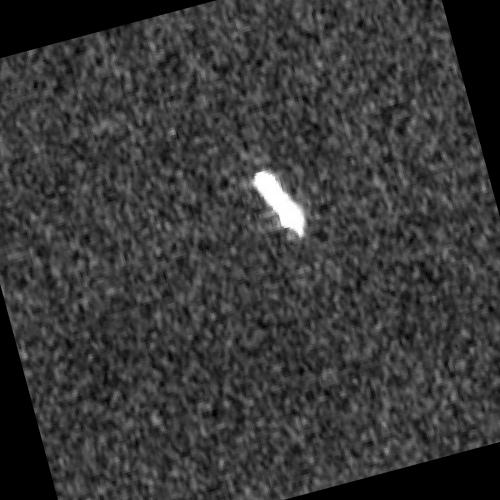ship: (253, 169, 306, 238)
